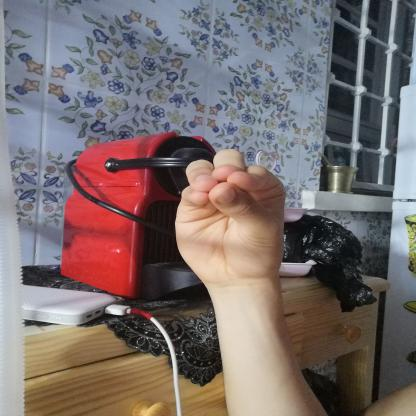HA: (154, 138, 313, 300)
